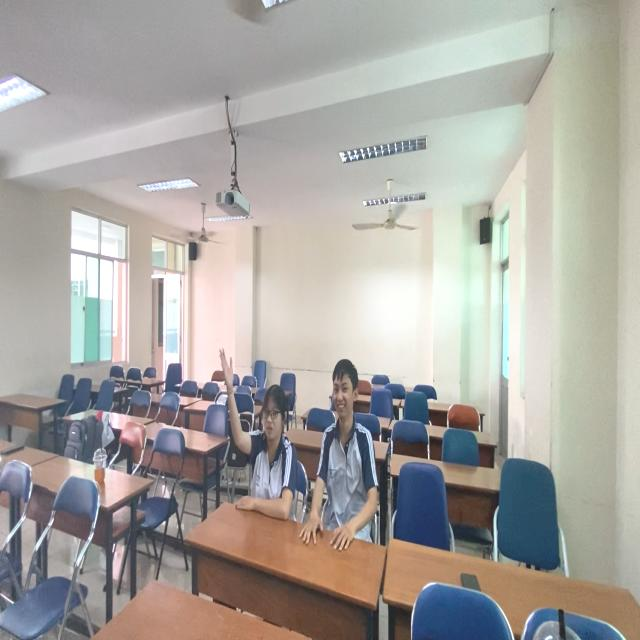raise_hand: (215, 348, 291, 524)
